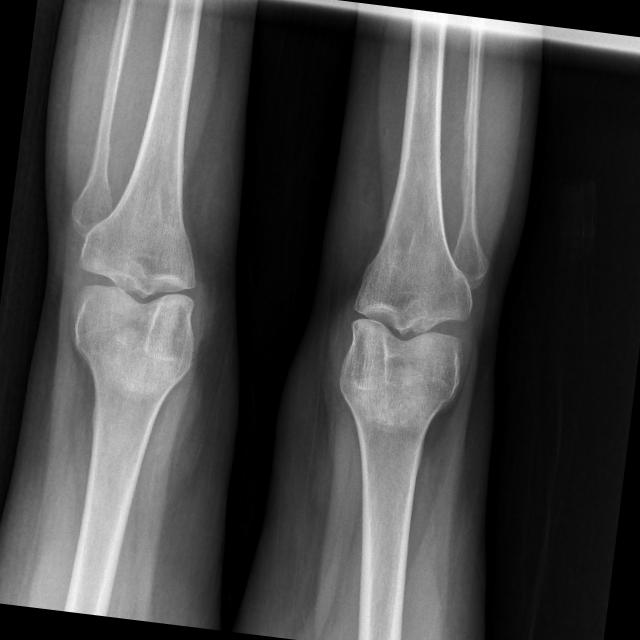Knee: (334, 255, 479, 406), (66, 218, 206, 366)
